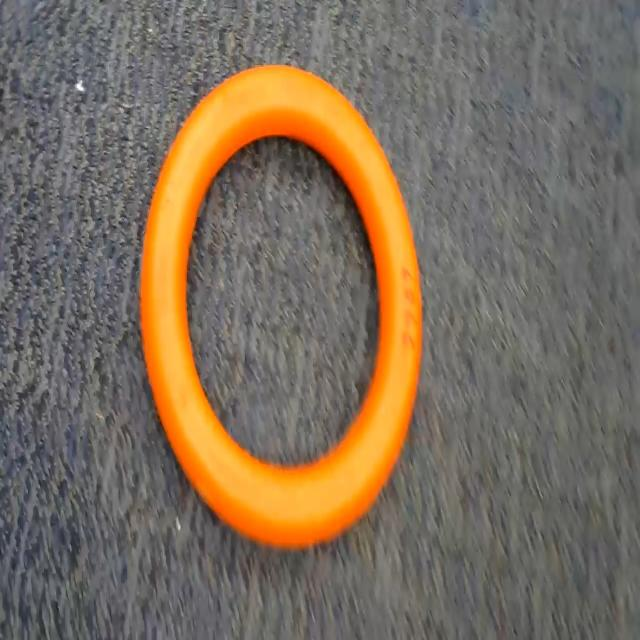note: (137, 44, 433, 554)
